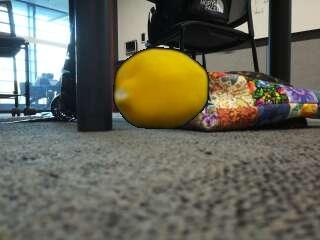lemon: (114, 49, 207, 128)
